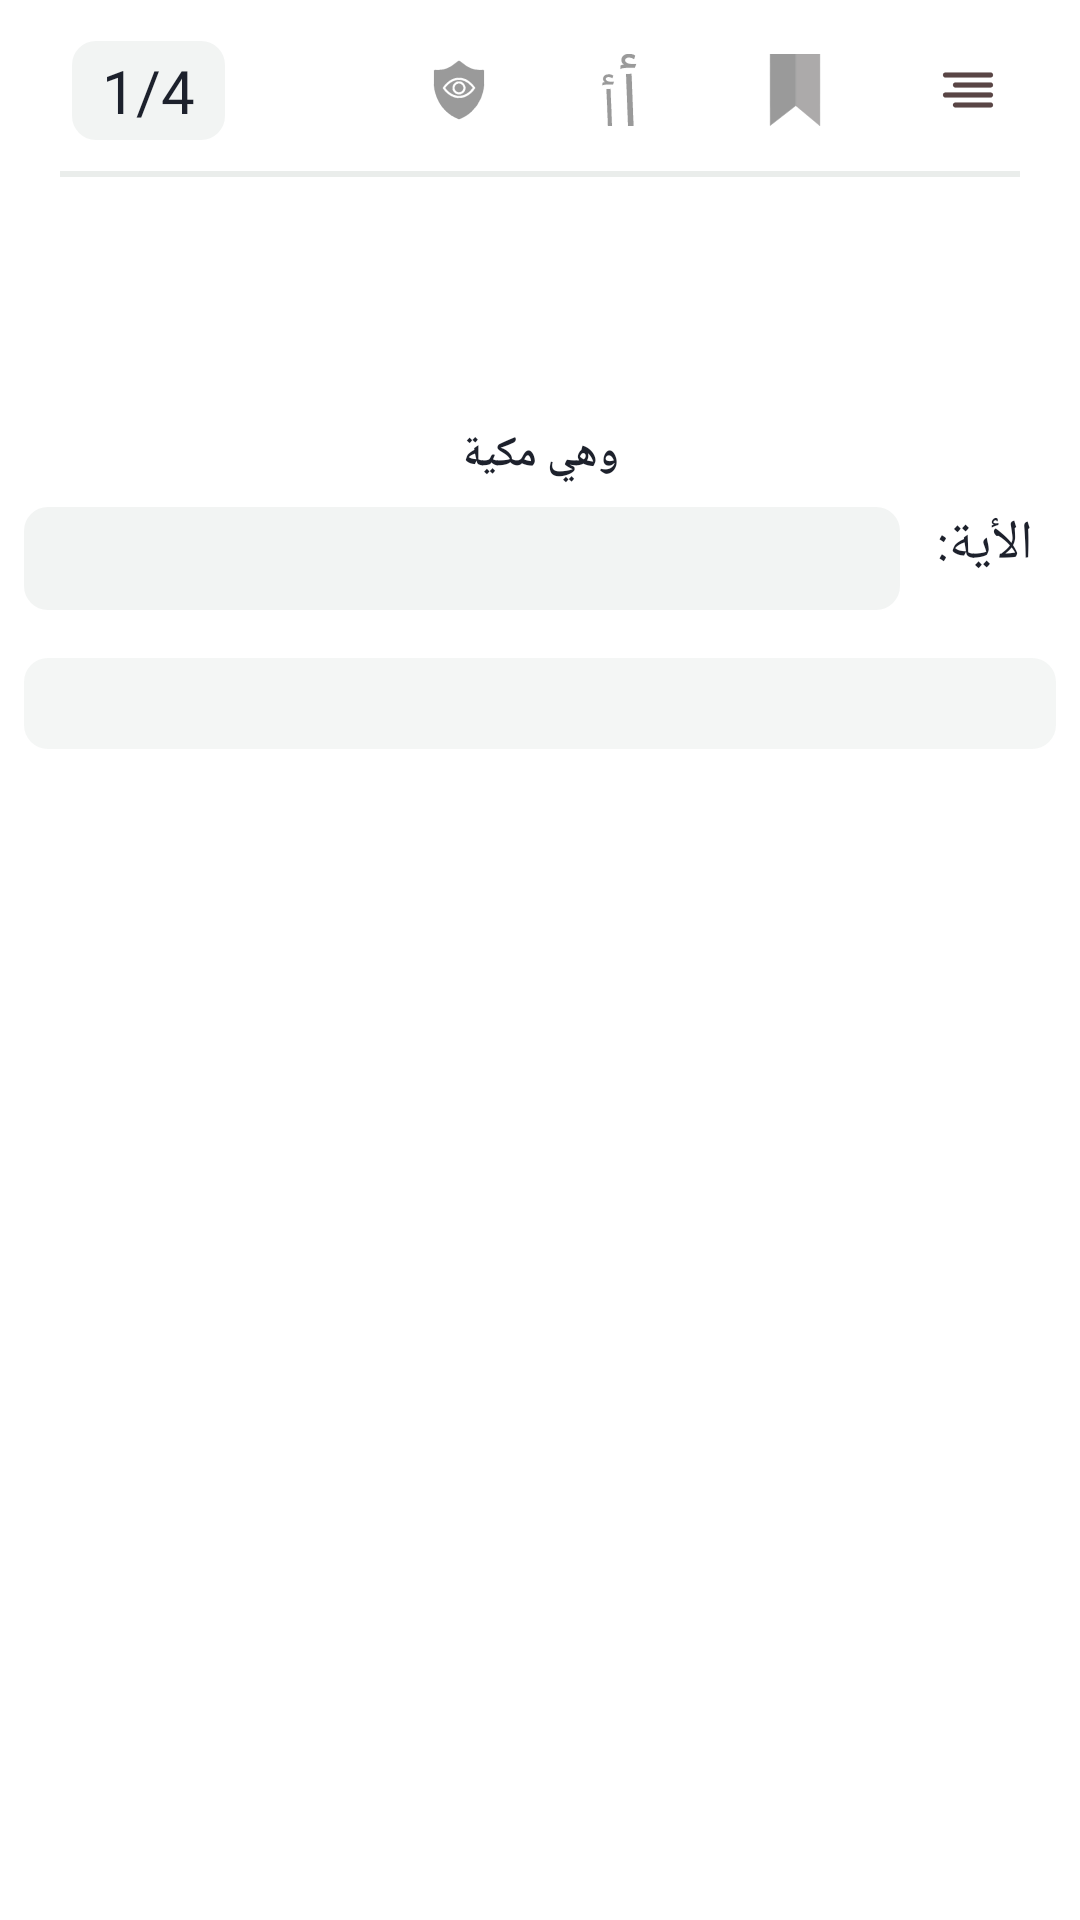

Where icons sit on this 1080 x 1920 app screen, as bbox=(x1, y1, x2, y2):
bookmark: bbox=(770, 54, 820, 126)
menu: bbox=(943, 72, 993, 108)
